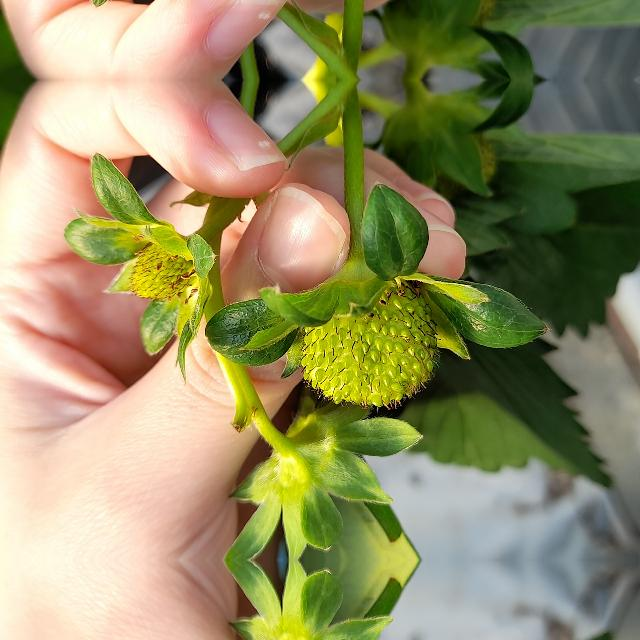Health_25: (300, 280, 440, 412)
